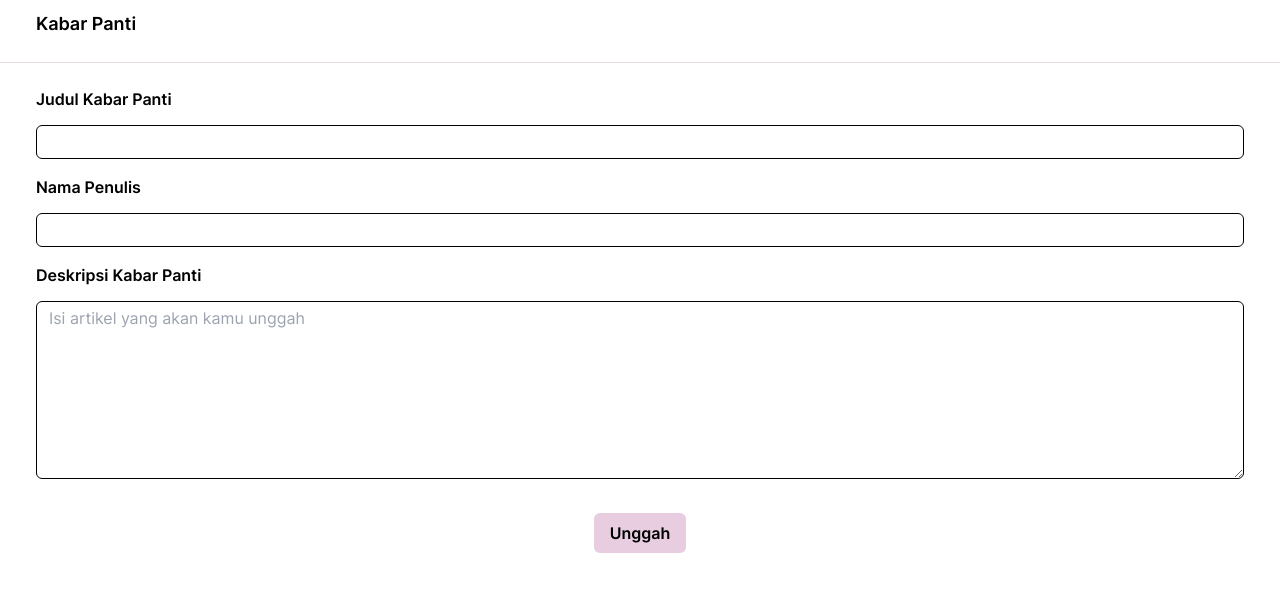
Test: BuatKabarPanti2 component › menampilkan pesan "semua field harus diisi"
Click the button "Unggah": (640, 533) [594,513,686,553]
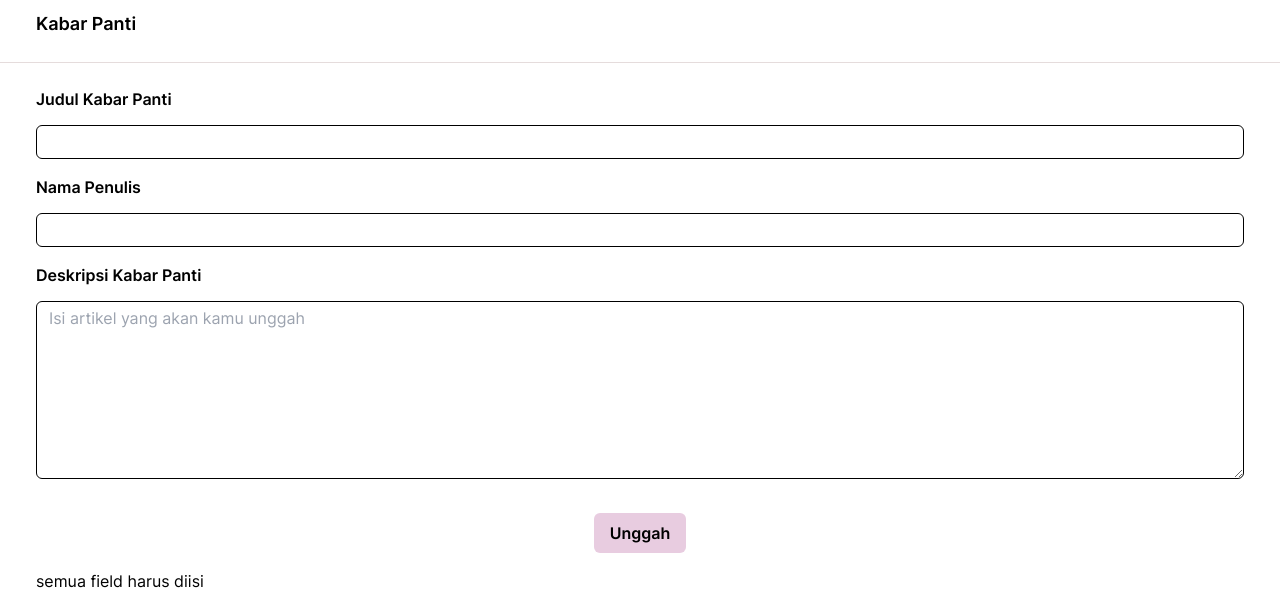
Check: the text "semua field harus diisi" is shown, box [36,571,204,591]
